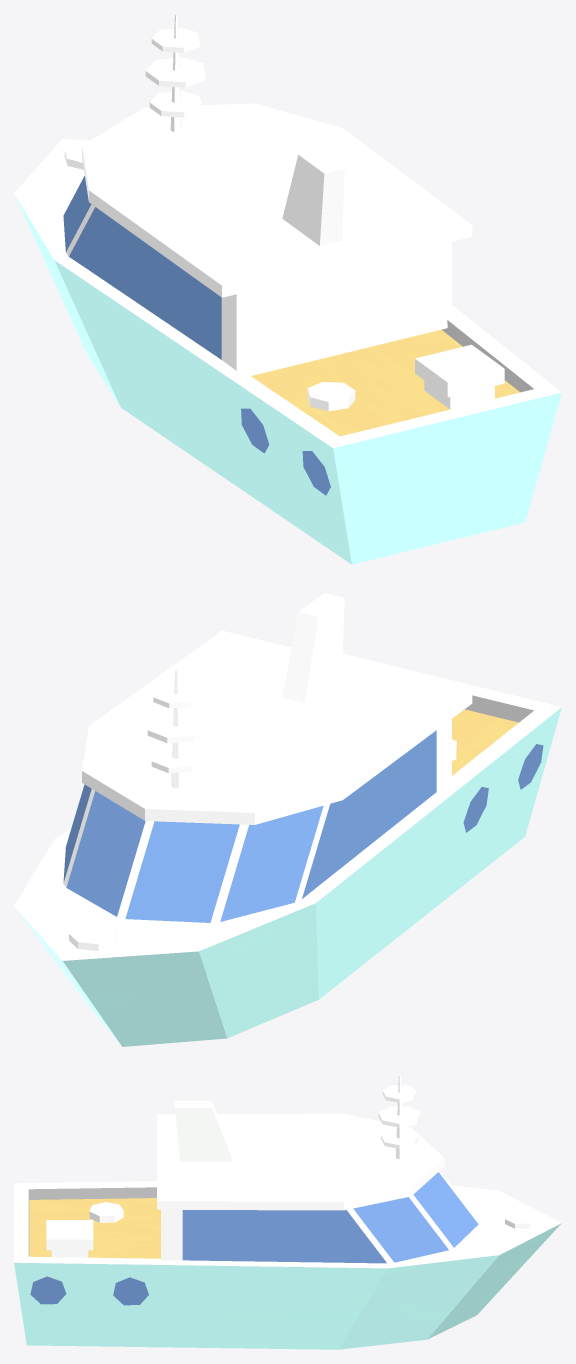
Rendered from transport_water.glb.
3 renders of one model, top to bottom at view 1: azimuth 30°, elevation 25°; view 2: azimuth 150°, elevation 25°; view 3: azimuth 270°, elevation 25°, orthographic. The views are drawn at different scales.
Parts seen in each view (by area): view 1: transport_water(Clone); view 2: transport_water(Clone); view 3: transport_water(Clone).
Part boxes in pixels (x1,y1,x2,y2): transport_water(Clone): [14, 15, 561, 564]; transport_water(Clone): [14, 593, 561, 1046]; transport_water(Clone): [14, 1076, 561, 1349].
Size of the model in its own units: 4 by 4.92 by 10.2.
1 material, 1 textured.
